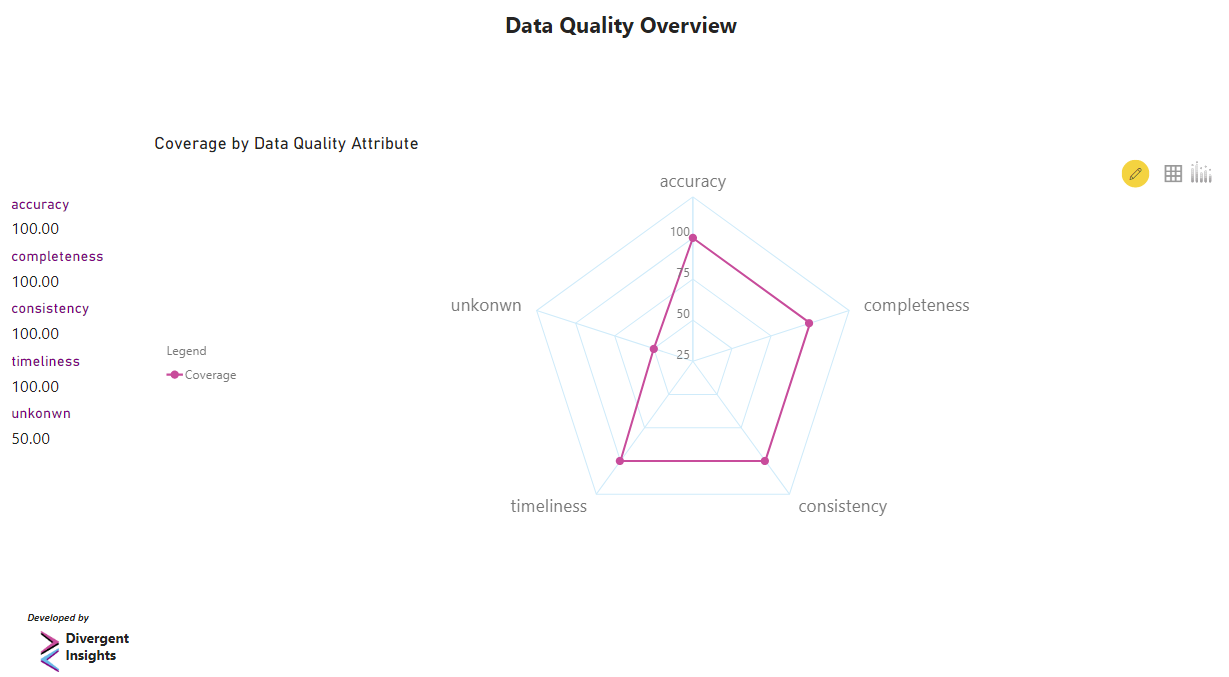

The dashboard page shown, as its layout file describes it:
{"tool":"powerbi","page":{"name":"Data Quality","canvas":[1280,720],"ordinal":2},"visuals":[{"type":"radarChartE89D21F3E4E64221B79113B5015EA81B","box":[9.7,267.5,280.1,12.6],"z":0},{"type":"textbox","box":[34,64.2,1196.4,59.3],"z":1000},{"type":"radarChartE89D21F3E4E64221B79113B5015EA81BBETA","title":"Coverage by Data Quality Attribute","fields":{"measure":["Sum(TESTS_COVERAGE.QUALITY_COVERAGE)"],"category":["TESTS_COVERAGE.QUALITY_TAG"]},"box":[173.1,189.7,1058.2,429.9],"z":2000},{"type":"multiRowCard","fields":{"Values":["TESTS_COVERAGE.QUALITY_TAG","Sum(TESTS_COVERAGE.QUALITY_COVERAGE)"]},"box":[34,245.1,115.7,374.5],"z":3000},{"type":"textbox","box":[49.6,644.9,363.8,44.7],"z":4000},{"type":"image","box":[49.6,667.3,52.5,52.5],"z":5000,"group":"g1"},{"type":"group","id":"g1","title":"Group 1","box":[49.6,666.3,123.5,53.5],"z":5000},{"type":"textbox","box":[86.6,666.3,86.6,53.5],"z":7000,"group":"g1"}]}

Visuals, with their boxes in screenshot pixels (x1, y1, x2, y2), scaled from the page's 1280x720 canvas onto the 1229x677 screenshot:
radarChartE89D21F3E4E64221B79113B5015EA81B: (9,252,278,263)
textbox: (33,60,1181,116)
"Coverage by Data Quality Attribute" radarChartE89D21F3E4E64221B79113B5015EA81BBETA: (166,178,1182,583)
multiRowCard - TESTS_COVERAGE.QUALITY_TAG x Sum(TESTS_COVERAGE.QUALITY_COVERAGE): (33,230,144,583)
textbox: (48,606,397,648)
image: (48,627,98,676)
"Group 1" group: (48,627,166,676)
textbox: (83,627,166,676)
